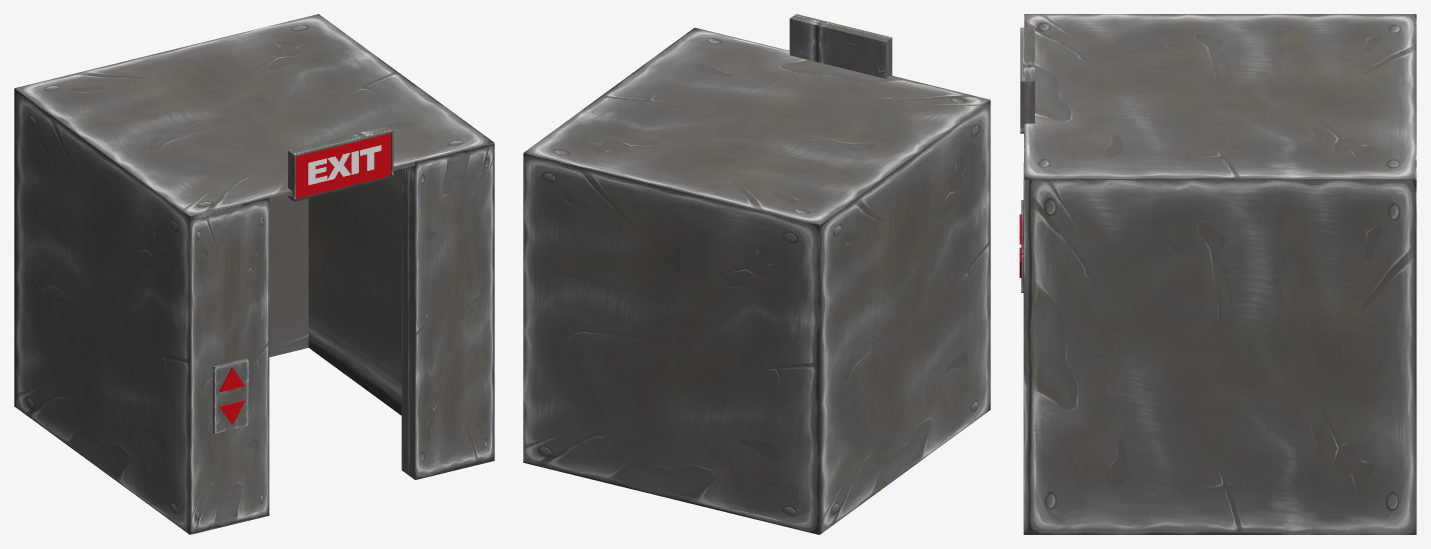
File: LiftModel.fbx
The picture shows the model from 3 angles, left to right: view 1: azimuth 30°, elevation 25°; view 2: azimuth 150°, elevation 25°; view 3: azimuth 270°, elevation 25°; orthographic projection. The views are drawn at different scales.
Visible parts, largest first — view 1: Lift; view 2: Lift; view 3: Lift.
Part boxes in pixels (bbox=[...]): Lift: bbox=[14, 14, 494, 534]; Lift: bbox=[523, 14, 990, 534]; Lift: bbox=[1019, 14, 1416, 534].
Size of the model in its own units: 2 by 2.24 by 2.03.
